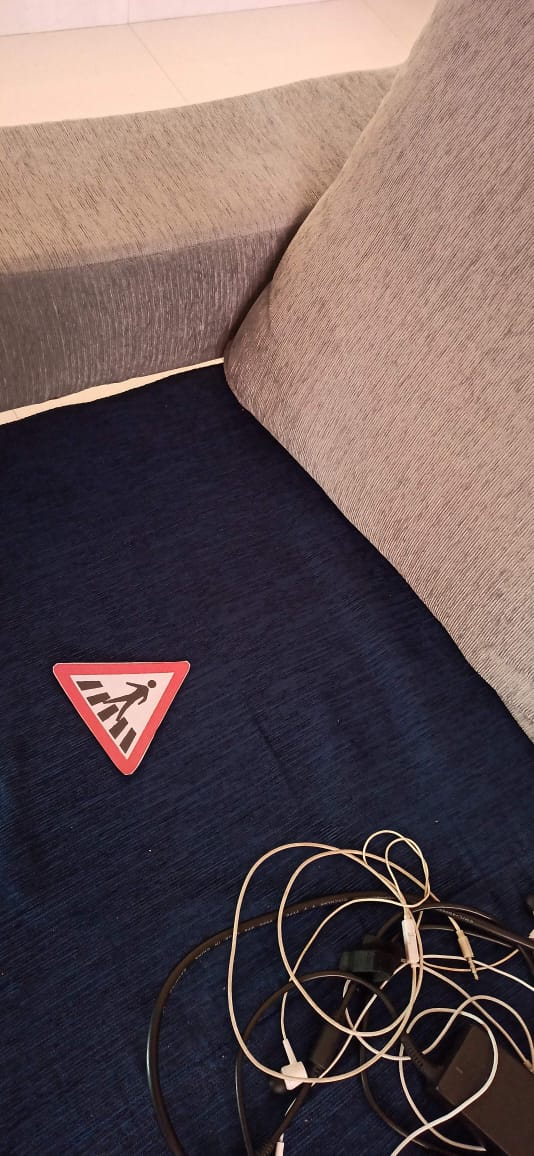PEDESTRIAN CROSSING: (44, 651, 203, 788)
